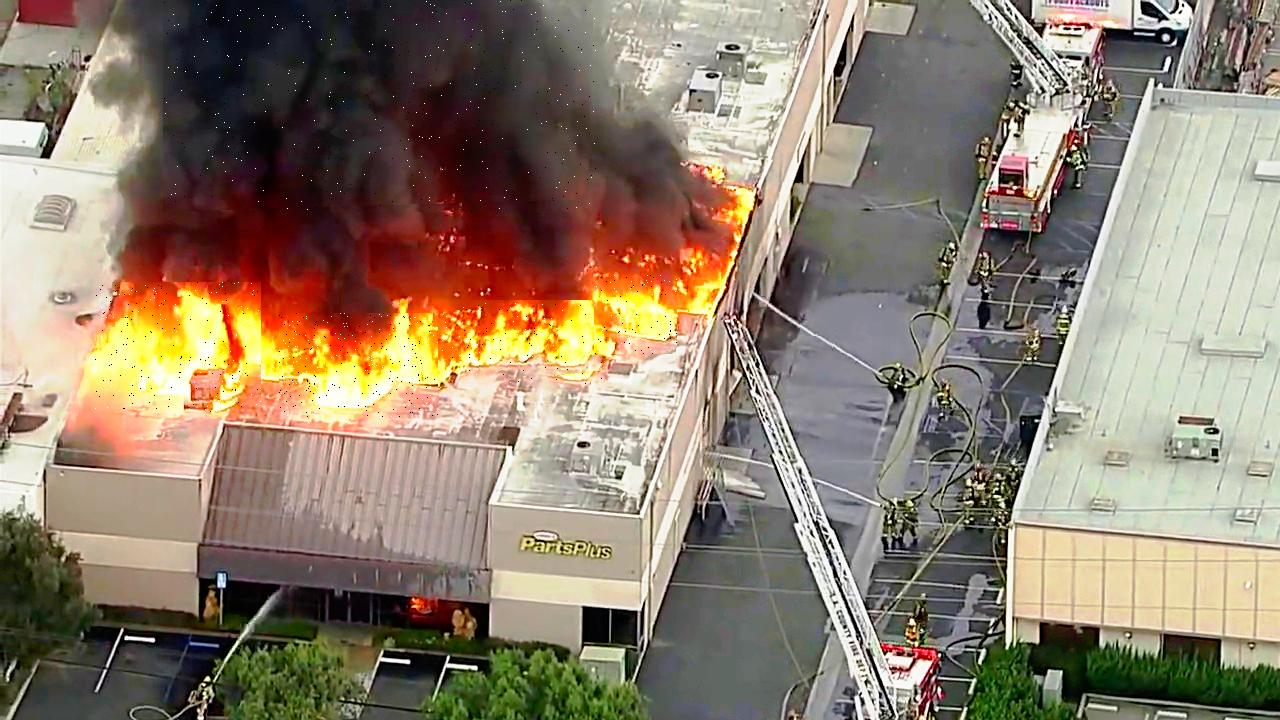fire: (95, 282, 261, 412), (279, 314, 439, 418), (438, 300, 605, 388), (594, 275, 677, 354)
smoke: (164, 0, 597, 212)
